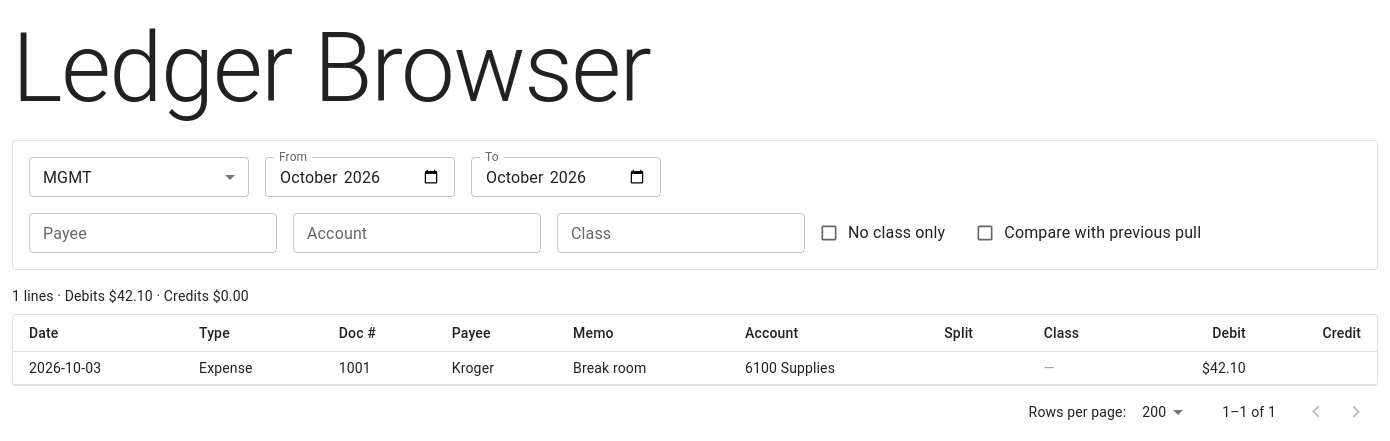
Test case: LedgerBrowser page › comparing shows change counts and marks changed lines
Expected: the text "Kroger" is shown, [436,352,557,384]
Click the checkbox labelled "Compare with previous pull": click(1088, 233) [975,223,1201,243]
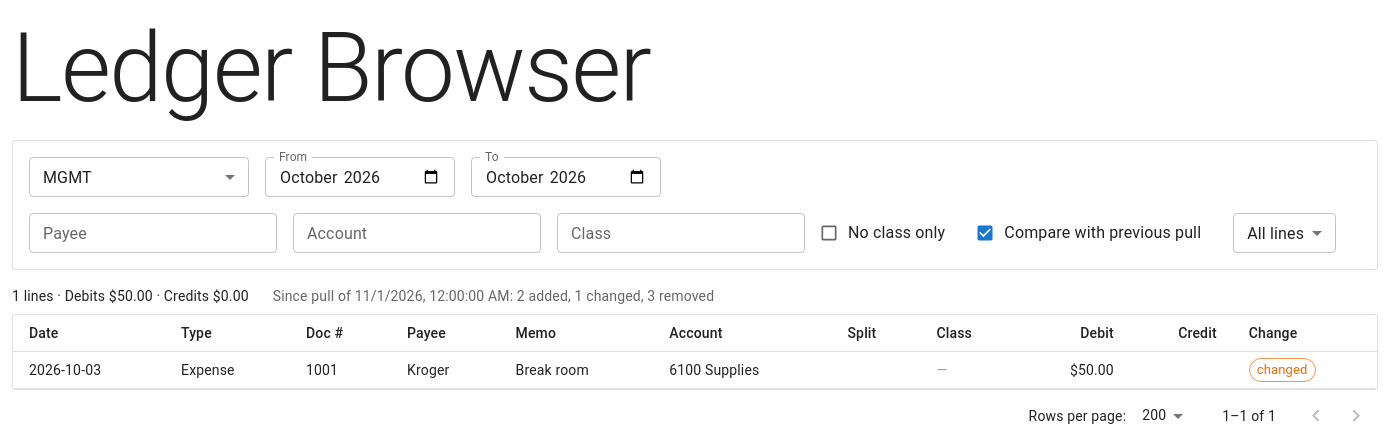
Result: the text with test id "change-counts" shows "2 added, 1 changed, 3 removed" at [273,286,714,306]
Result: the text "changed" is shown at [1257,362,1308,377]
